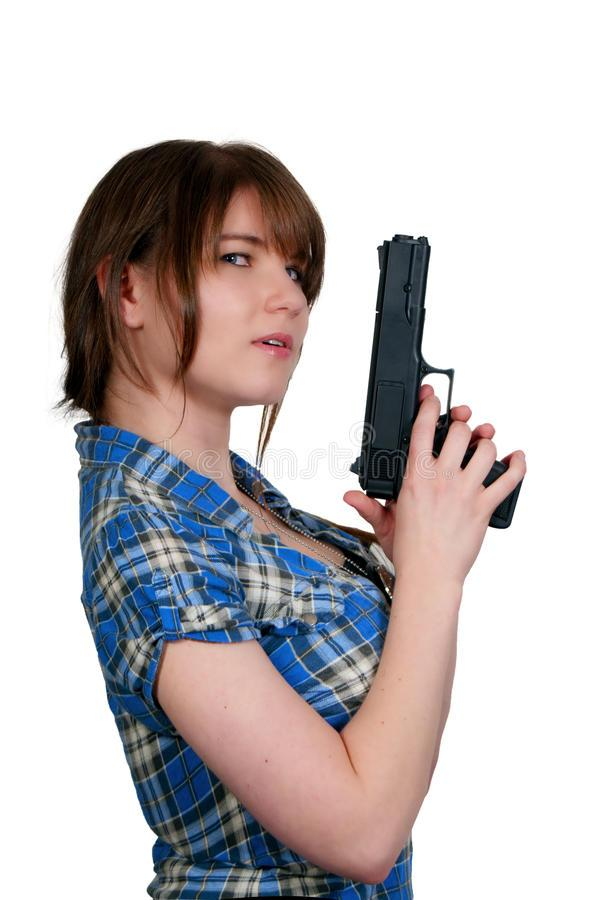criminal: (51, 130, 532, 900)
weapon: (344, 224, 531, 535)
